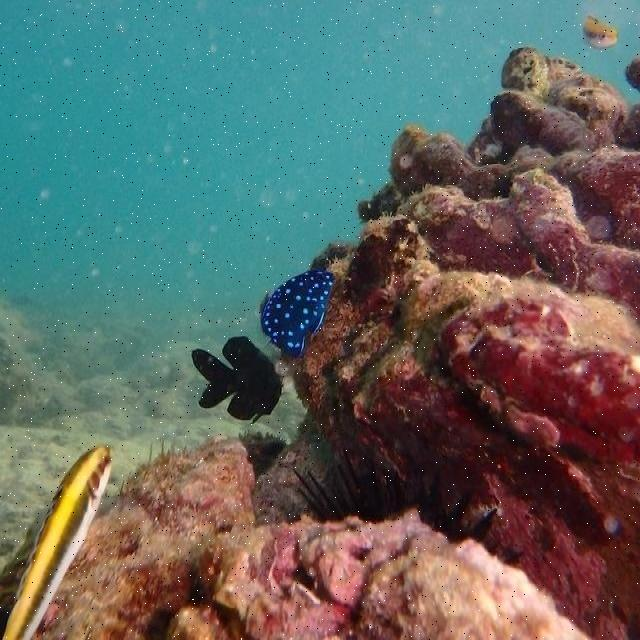aquatic plants: (294, 466, 521, 558)
fish: (1, 443, 114, 639), (189, 337, 284, 422), (263, 269, 335, 360), (582, 16, 620, 49)
sea-floor: (290, 51, 639, 617), (39, 442, 594, 639)
